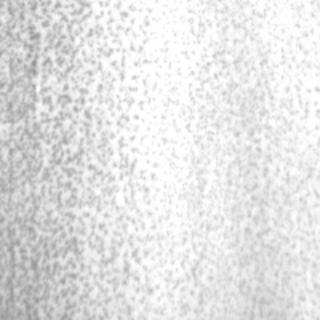pitted_surface: (0, 1, 318, 316)
